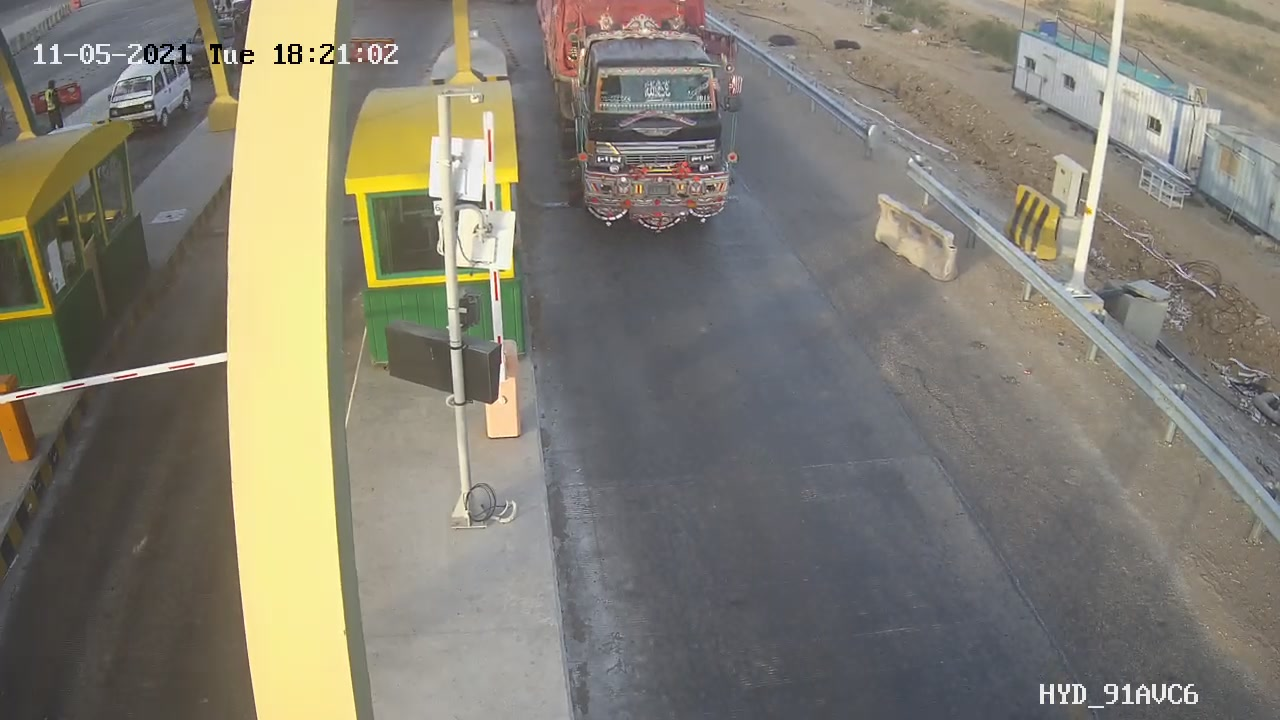F6: (538, 7, 753, 228)
